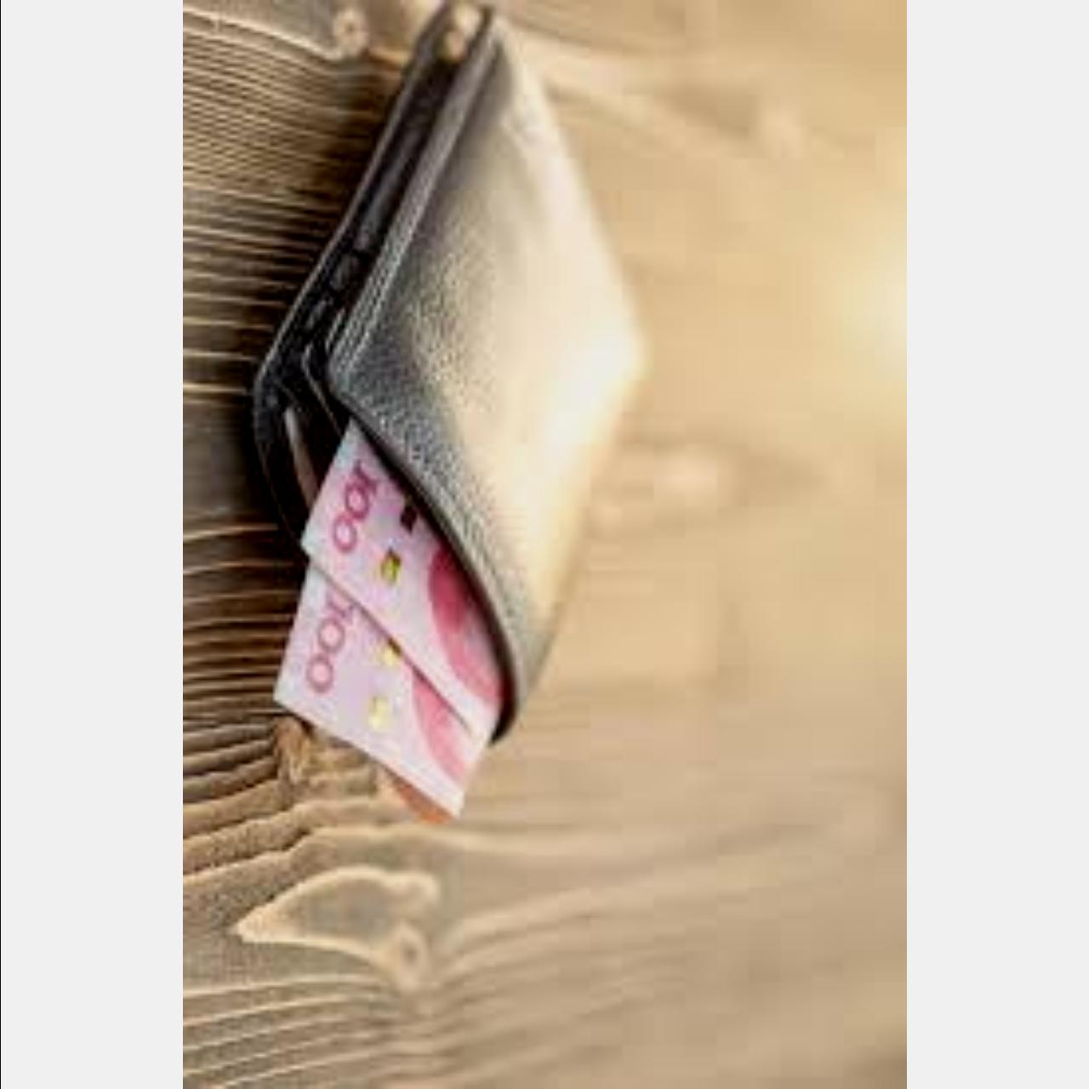wallet: (204, 2, 643, 845)
